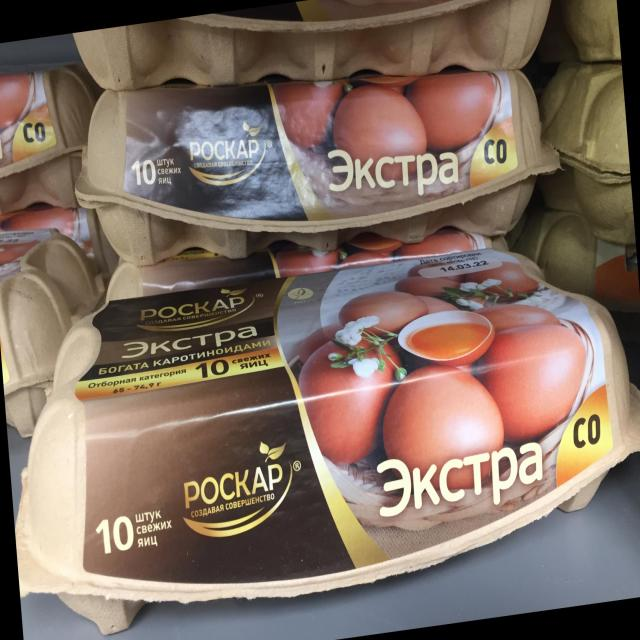organic waste: (0, 231, 640, 640), (74, 33, 569, 294), (68, 0, 586, 122), (0, 218, 103, 436), (0, 46, 103, 225), (539, 61, 634, 240), (559, 0, 621, 67)
